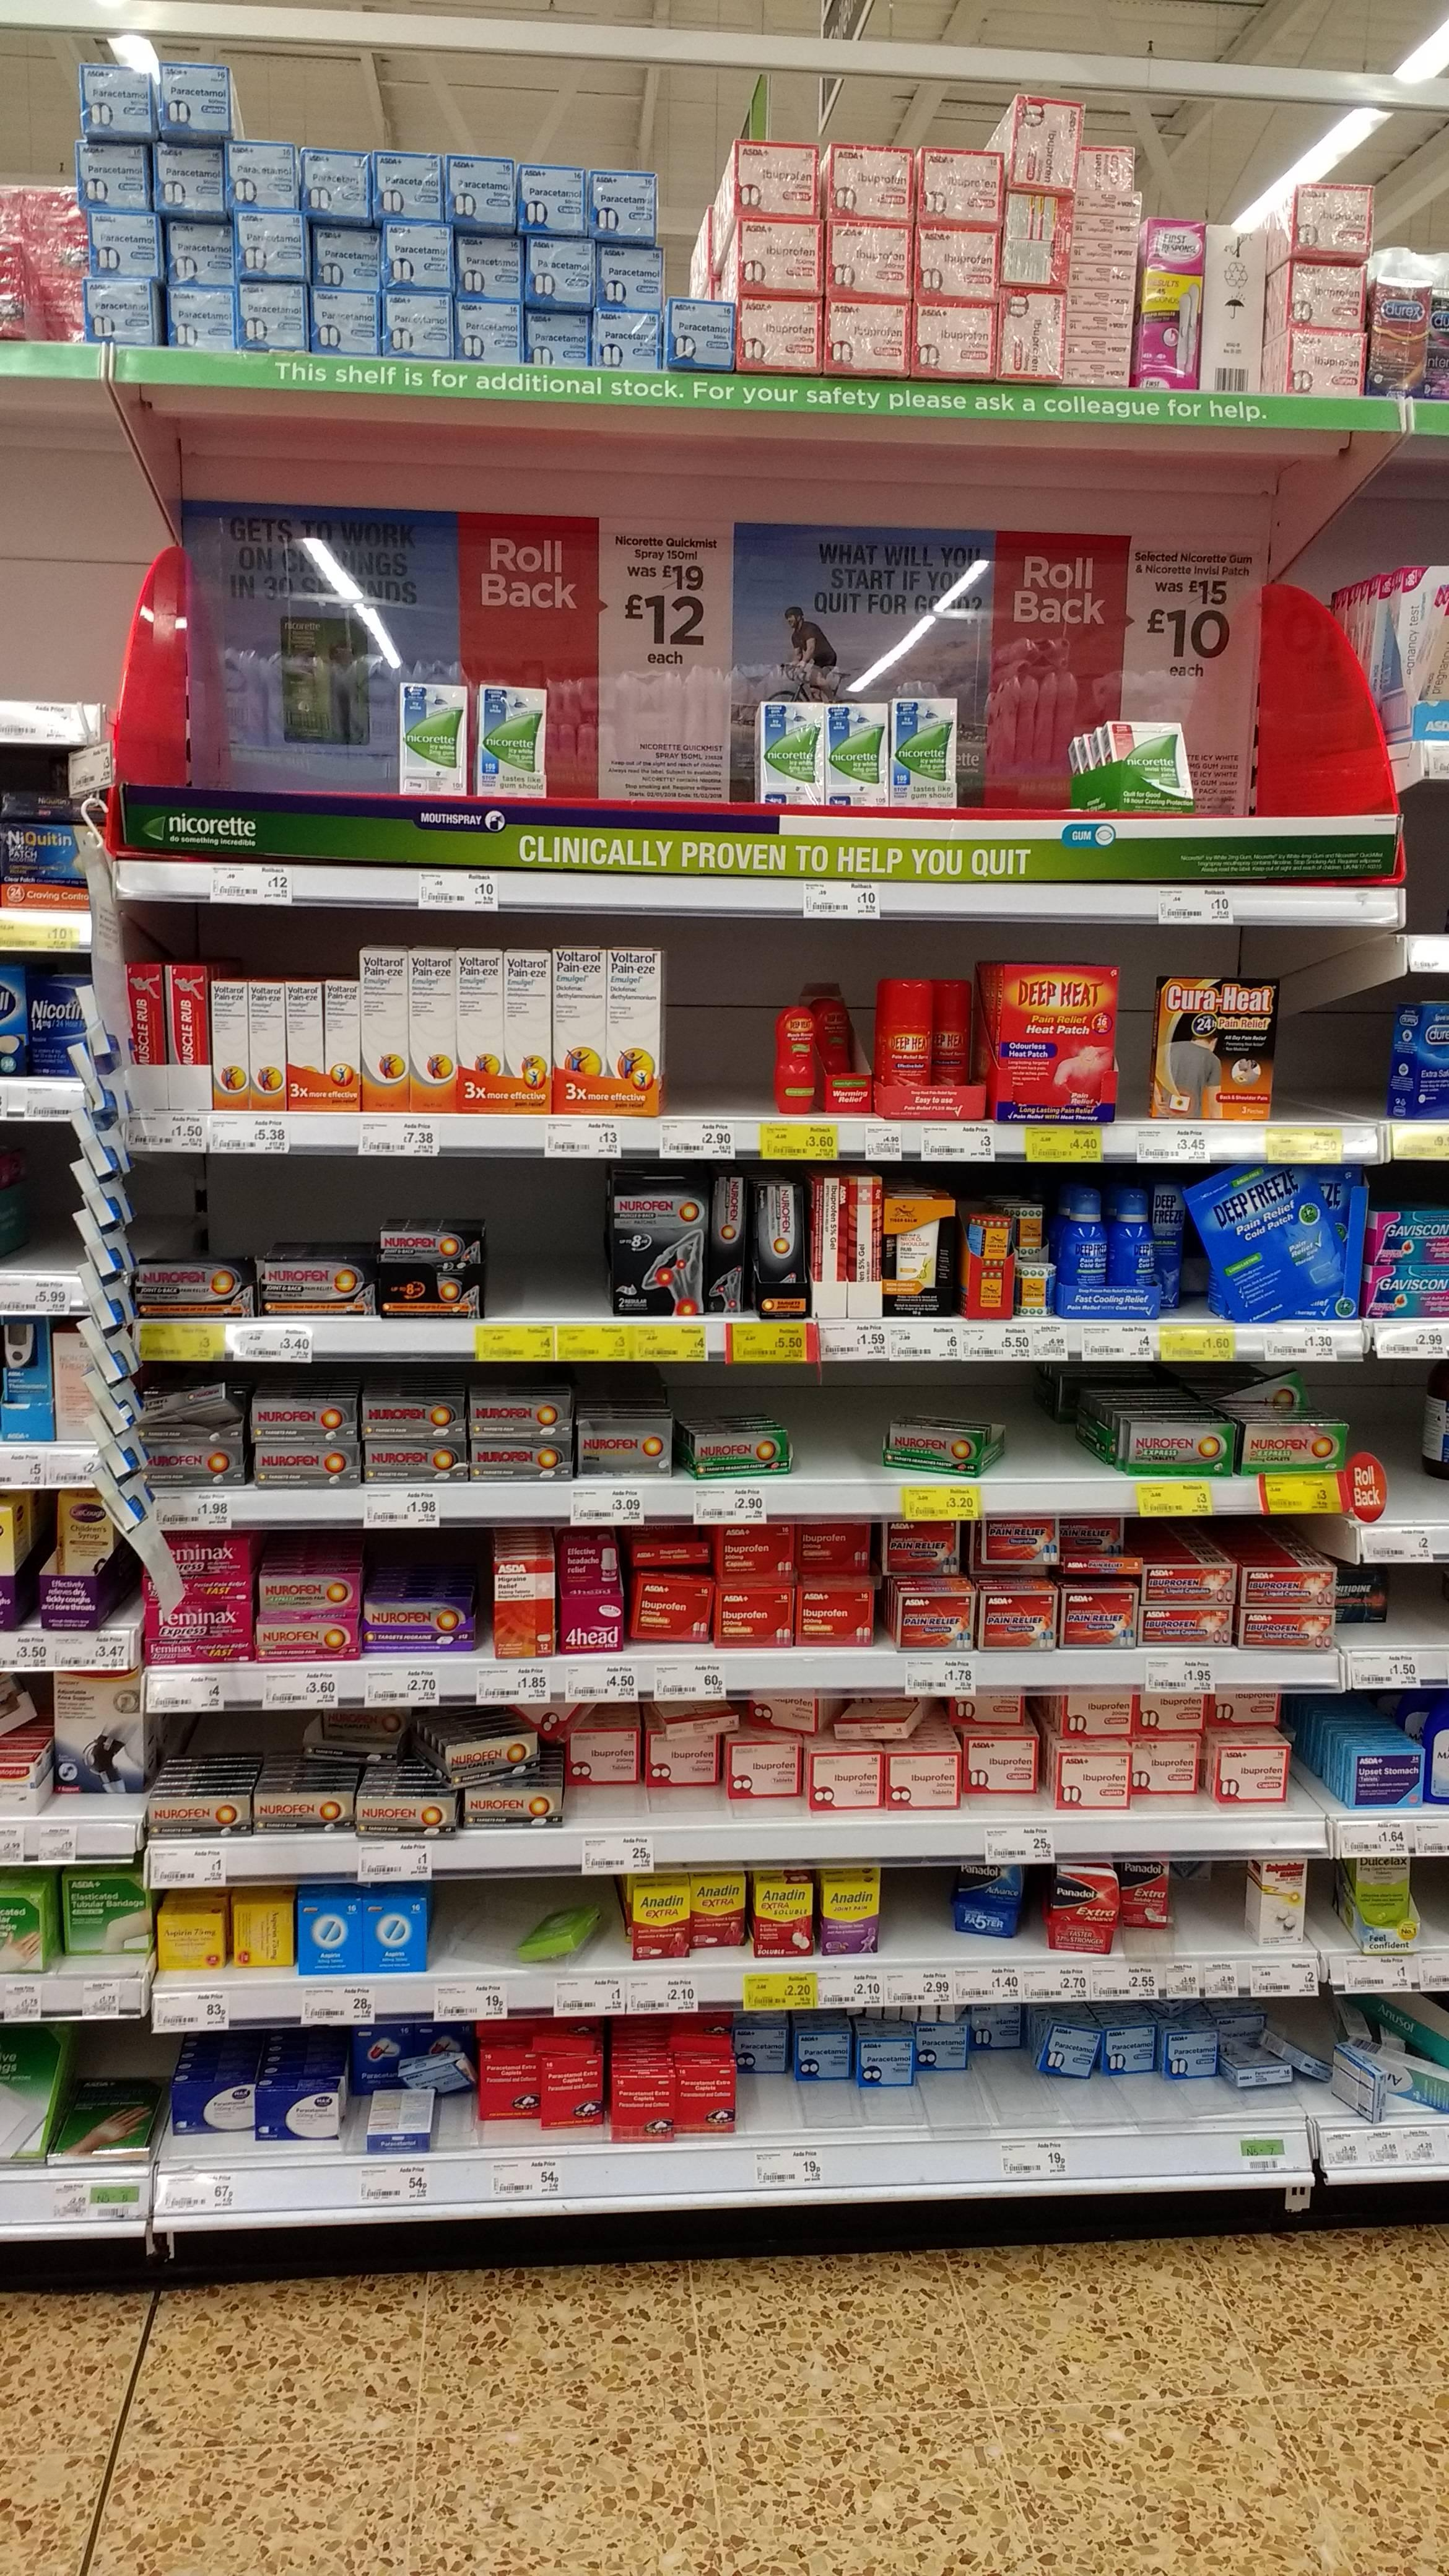misalignment: (1194, 1162, 1323, 1323), (349, 2026, 478, 2155), (455, 1897, 609, 1971), (863, 1410, 1017, 1476), (1226, 2006, 1320, 2097), (676, 1417, 800, 1476), (426, 1716, 547, 1773), (1320, 2047, 1403, 2116), (140, 1385, 251, 1428), (828, 1700, 920, 1741), (1063, 1550, 1139, 1585)
